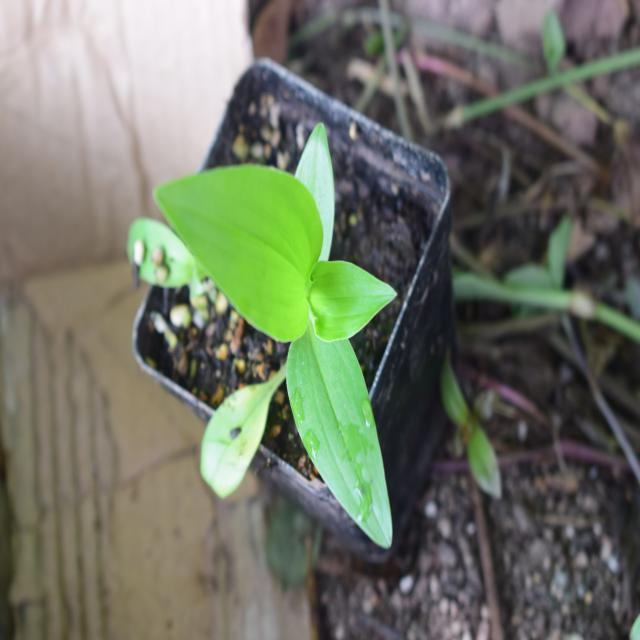Common Dayflower: (160, 132, 410, 558)
